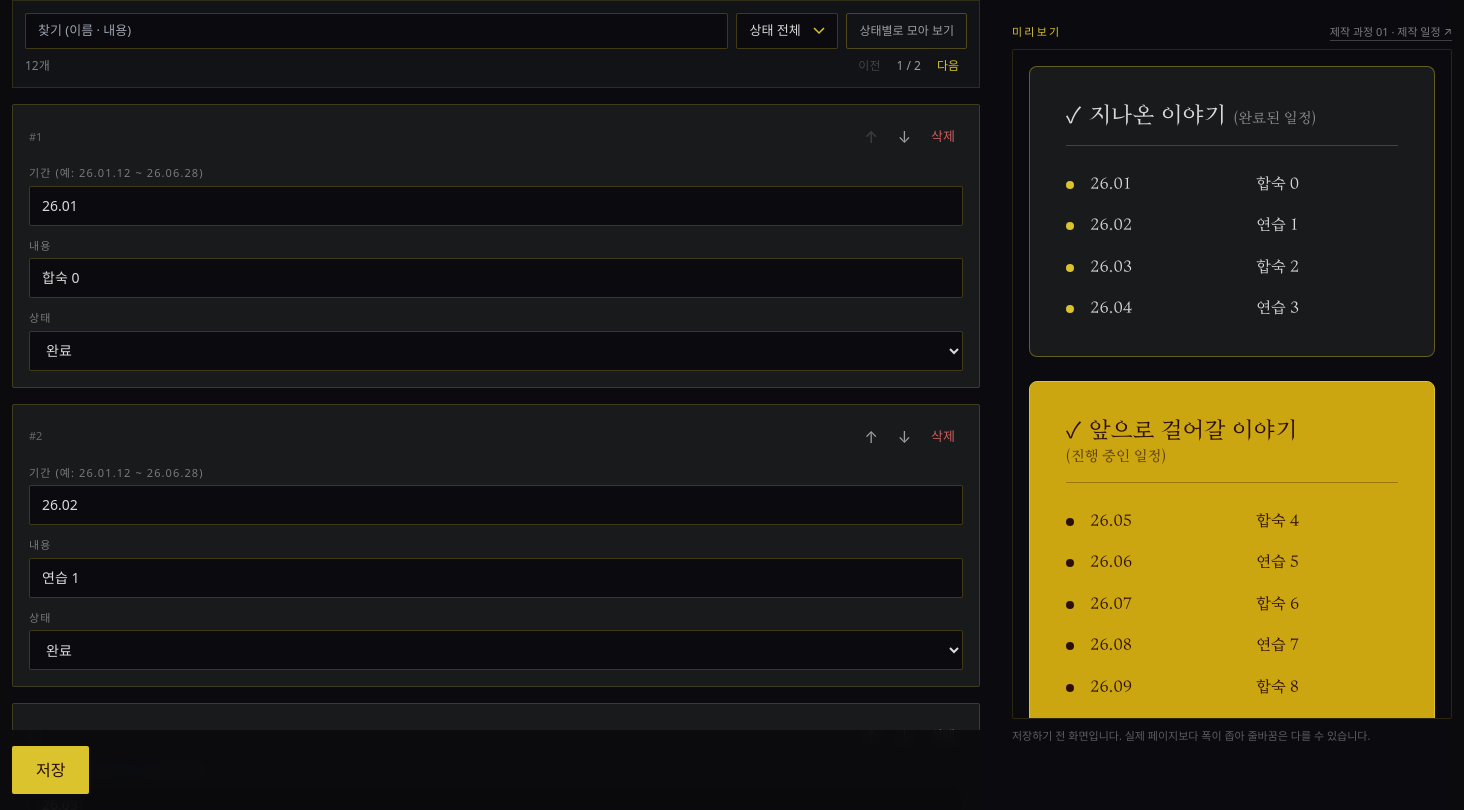
it: ListEditor — 찾기·거르기·페이지 › 모아 보기는 보기만 바꾸고 저장 순서는 건드리지 않는다
What coordinates should you click on to do the following:
click the button "상태별로 모아 보기"
I would click on:
 (907, 31)
Its box is [846,13,967,49].
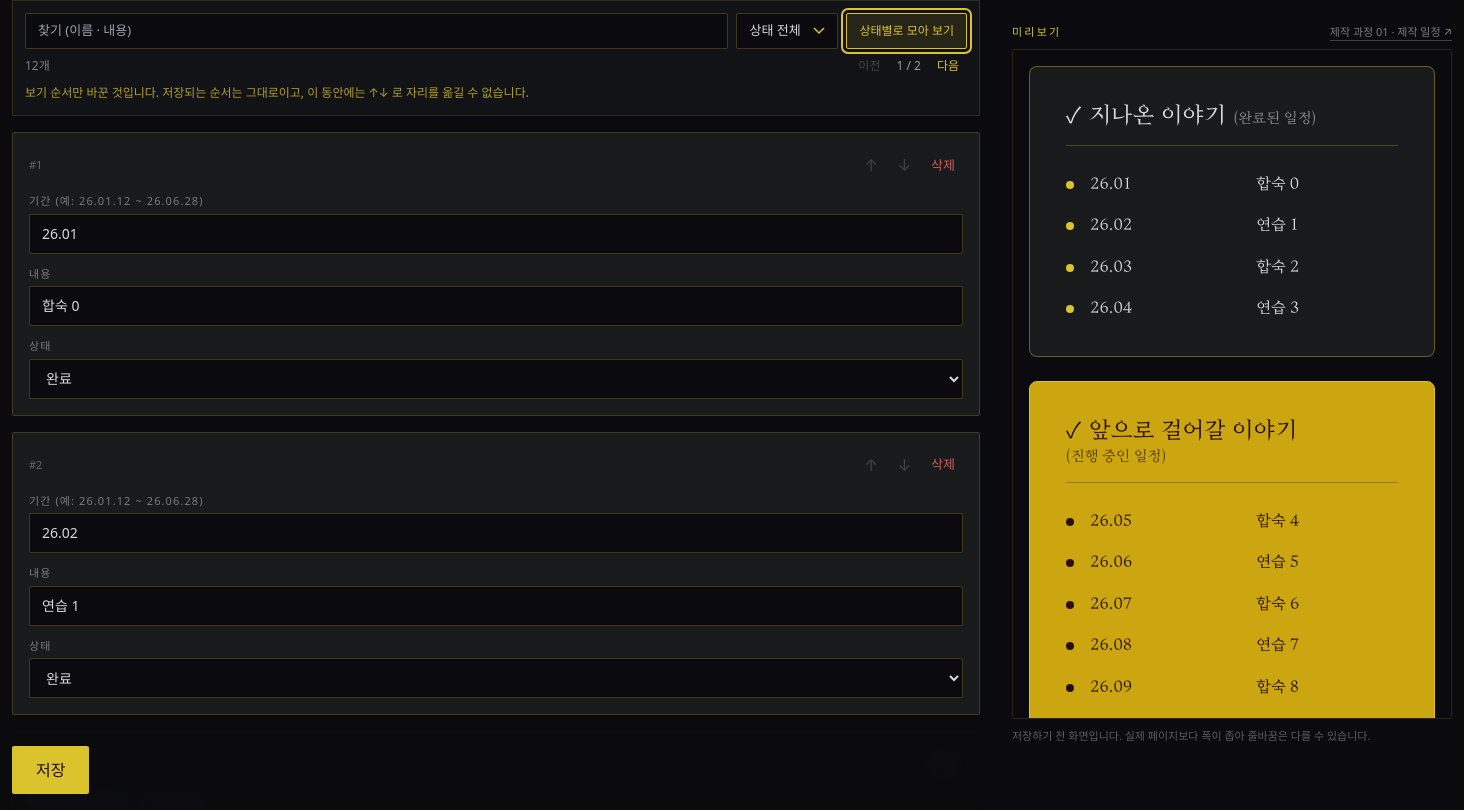
Result: the text "보기 순서만 바꾼 것입니다. 저장되는 순서는 그대로이고, 이 동안에는 ↑↓ 로 자리를 옮길 수 없습니다." is shown at [25,84,529,101]
